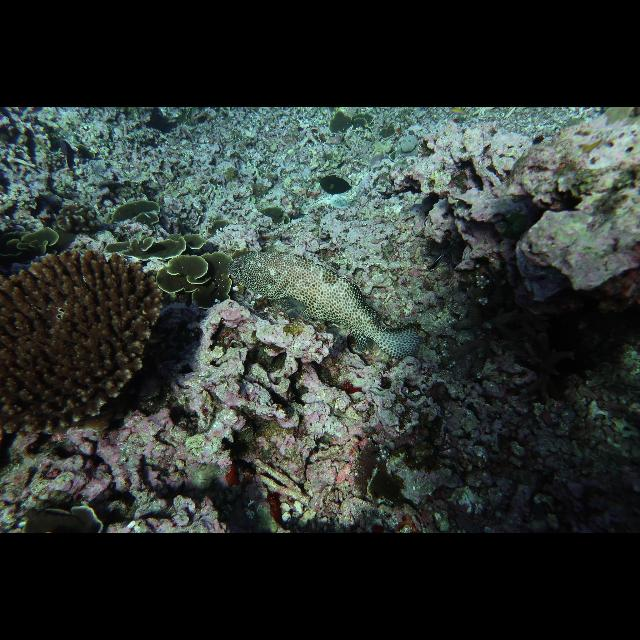Groupers: (229, 252, 421, 360)
